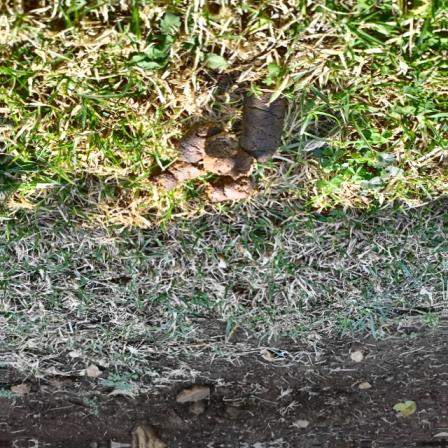dog-poop: (172, 84, 280, 212)
